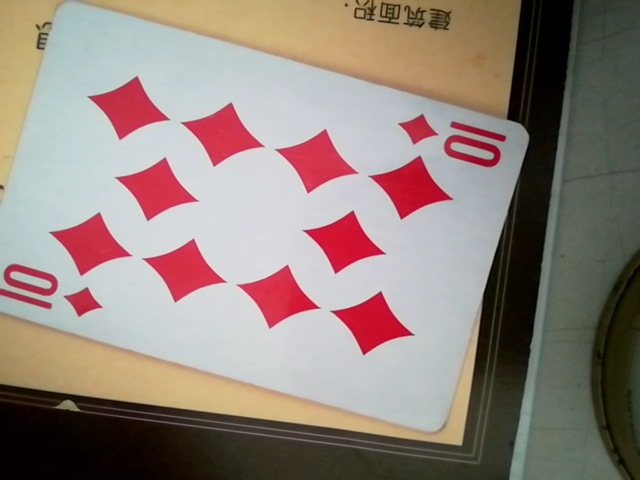fk 10: (0, 7, 538, 441)
